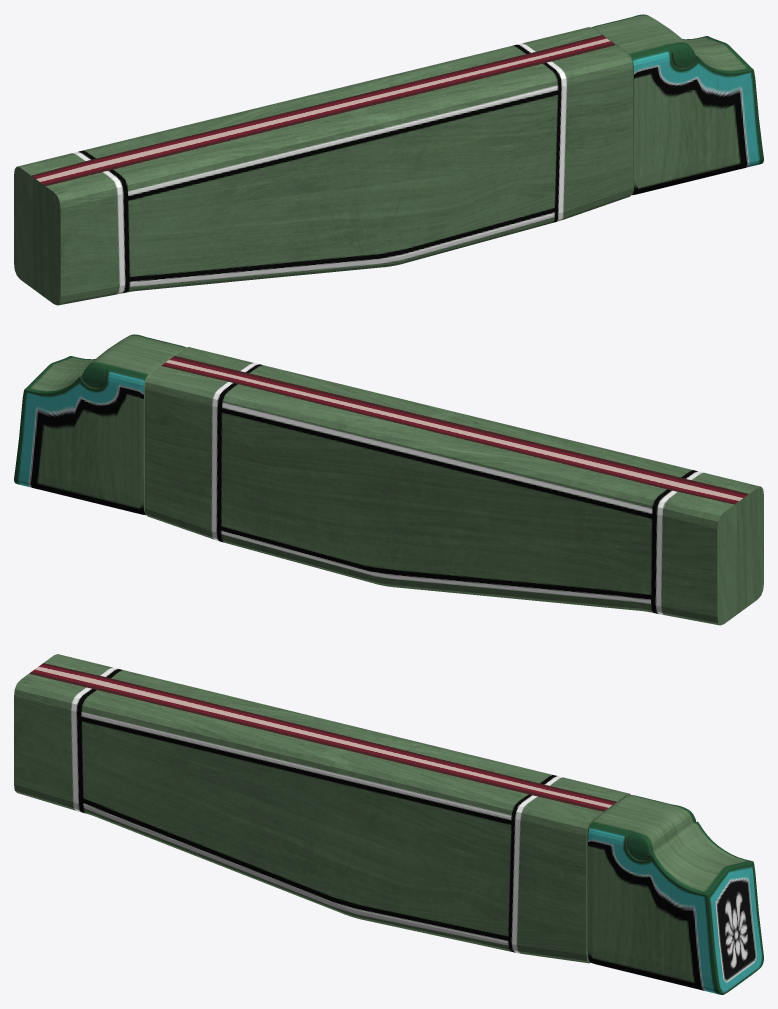
Rendered from SM_SJJ_HG_Beam04A.fbx.
3 renders of one model, top to bottom at view 1: azimuth 30°, elevation 25°; view 2: azimuth 150°, elevation 25°; view 3: azimuth 330°, elevation 25°, orthographic.
Parts seen in each view (by area): view 1: SM_SJJ_HG_Beam04A; view 2: SM_SJJ_HG_Beam04A; view 3: SM_SJJ_HG_Beam04A.
Boxes of the visible parts, x1,y1,x2,y2 form: SM_SJJ_HG_Beam04A: (14,14,763,305); SM_SJJ_HG_Beam04A: (14,334,763,625); SM_SJJ_HG_Beam04A: (14,654,763,994).
Bounding box in the file's own units: 274 × 31.28 × 57.3.
1 material, 1 textured.
